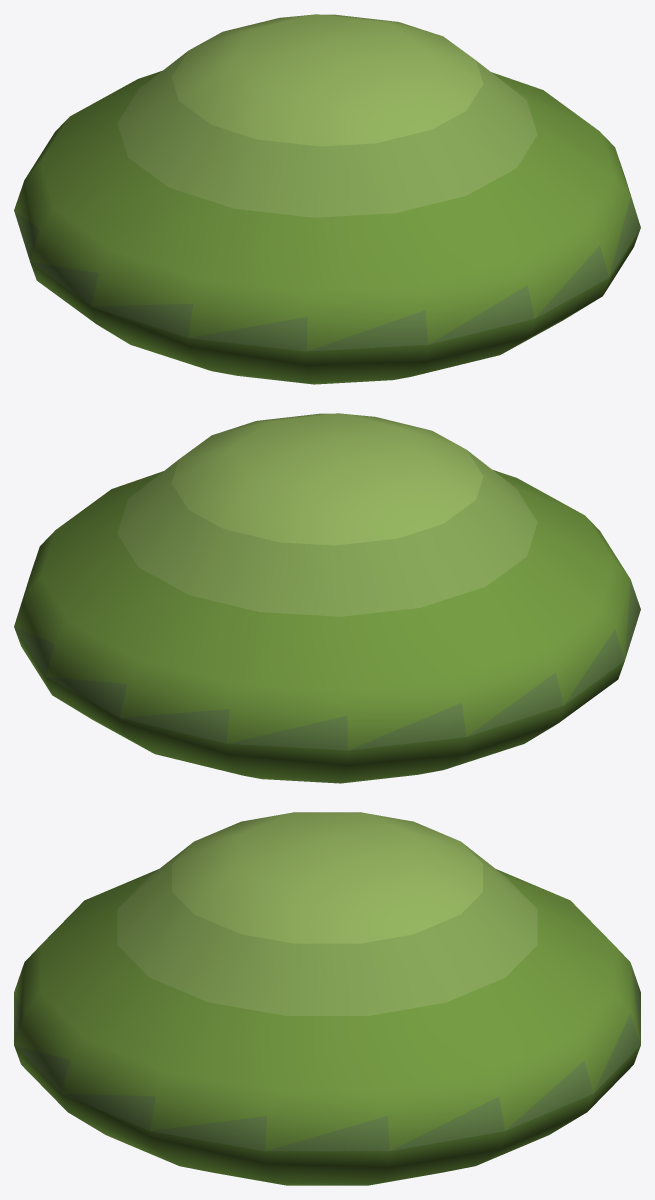
File: itch_kaykit_forest_bush_3_c_color1.glb
3 renders of one model, top to bottom at view 1: azimuth 30°, elevation 25°; view 2: azimuth 150°, elevation 25°; view 3: azimuth 270°, elevation 25°, orthographic.
Visible parts, largest first — view 1: Bush_3_C_Color1; view 2: Bush_3_C_Color1; view 3: Bush_3_C_Color1.
Part boxes in pixels (left/top/right/bottom): Bush_3_C_Color1: left=14, top=14, right=640, bottom=384; Bush_3_C_Color1: left=14, top=413, right=640, bottom=783; Bush_3_C_Color1: left=14, top=812, right=640, bottom=1185.
Size of the model in its own units: 0.96 by 0.4436 by 0.96.
